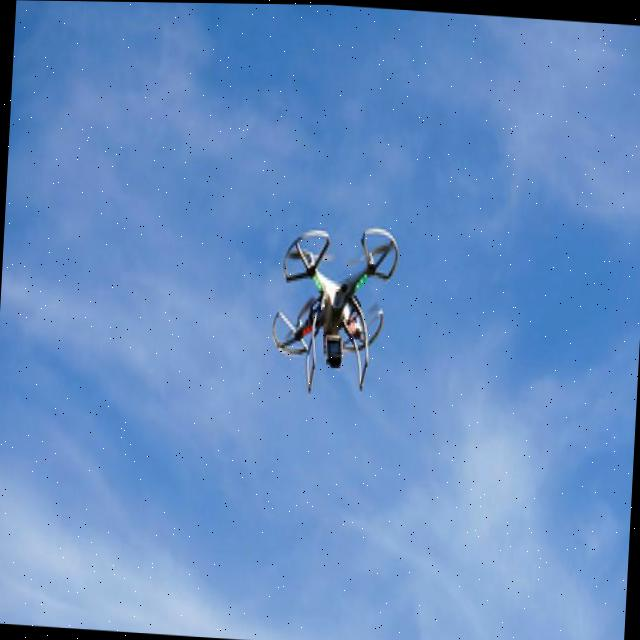drone: (250, 195, 418, 382)
